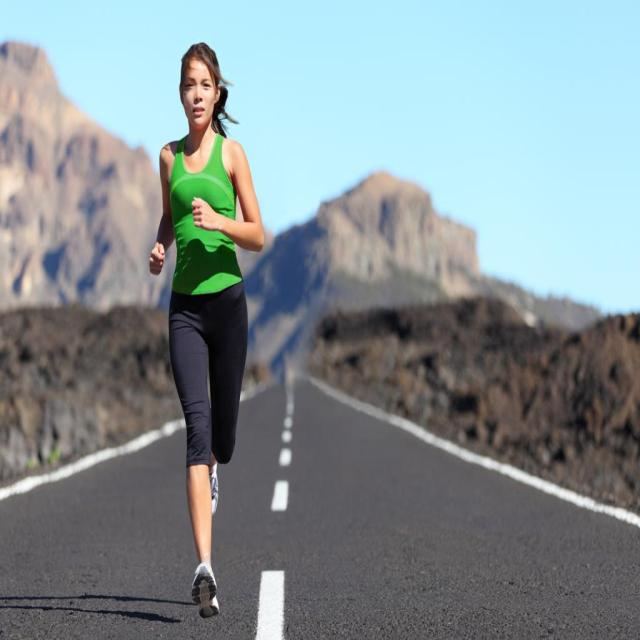Face: (179, 56, 224, 138)
